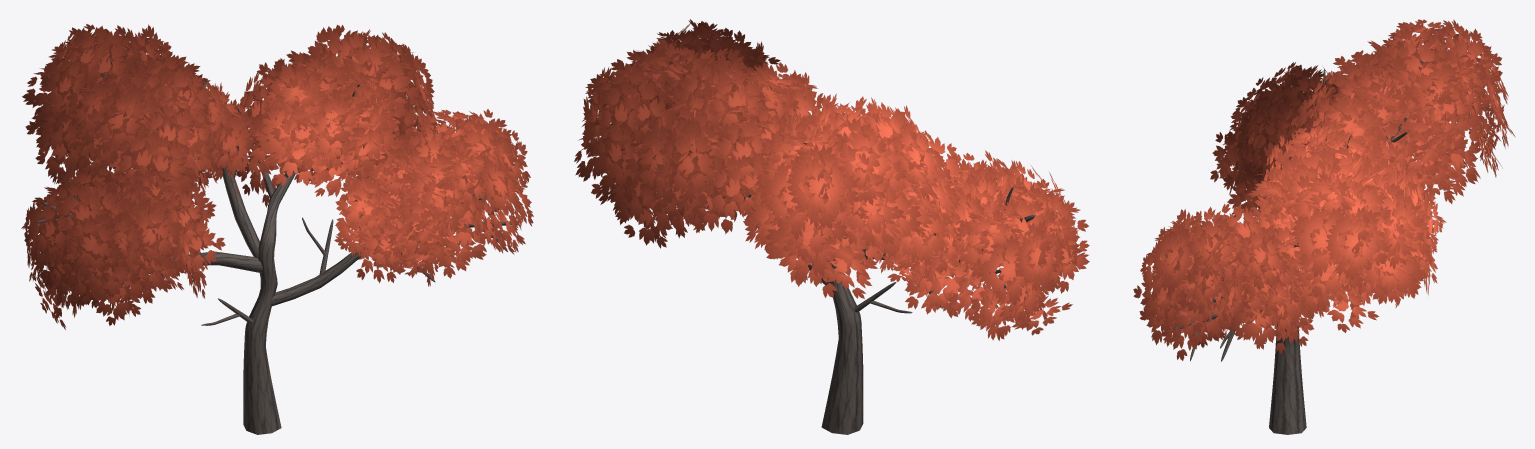
File: quaternius-nature-maple-3.glb
3 views of the same model, side by side, from view 1: azimuth 30°, elevation 25°; view 2: azimuth 150°, elevation 25°; view 3: azimuth 270°, elevation 25° (orthographic). The views are drawn at different scales.
Parts seen in each view (by area): view 1: MapleTree_3; view 2: MapleTree_3; view 3: MapleTree_3.
Part boxes in pixels (bbox=[...]): MapleTree_3: bbox=[21, 24, 533, 434]; MapleTree_3: bbox=[574, 19, 1089, 434]; MapleTree_3: bbox=[1133, 19, 1514, 434].
Bounding box in the file's own units: 8.98 × 6.99 × 6.61.
2 materials, 2 textured.
